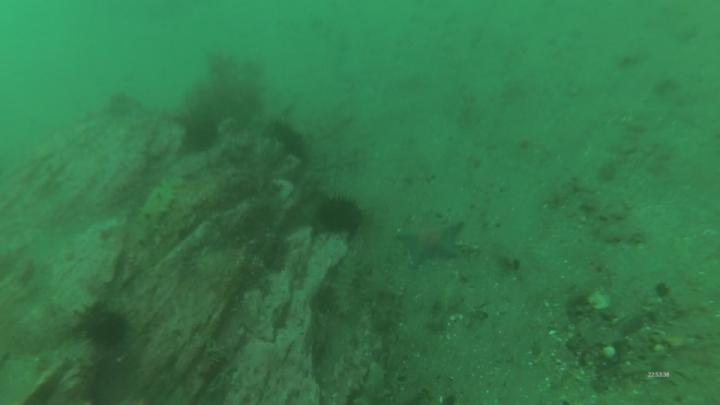echinus: (131, 178, 180, 235), (335, 258, 357, 317)
holothurian: (399, 212, 464, 268)
starfish: (86, 314, 128, 351), (323, 197, 363, 235), (183, 120, 223, 150), (277, 124, 307, 160)
